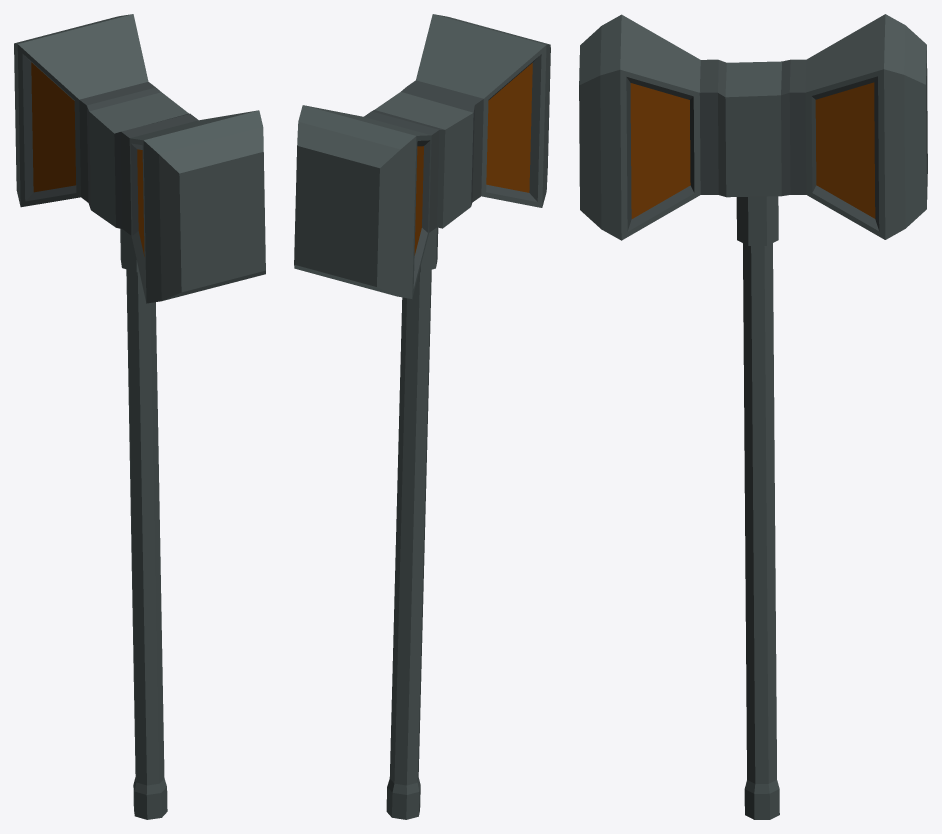
File: Hammer1.fbx
3 renders of one model, left to right at view 1: azimuth 30°, elevation 25°; view 2: azimuth 150°, elevation 25°; view 3: azimuth 270°, elevation 25°, orthographic. The views are drawn at different scales.
Parts seen in each view (by area): view 1: hammer1.001; view 2: hammer1.001; view 3: hammer1.001.
Part boxes in pixels (box(x1,y1,x2,y2)): hammer1.001: box(14, 14, 265, 819); hammer1.001: box(294, 14, 550, 819); hammer1.001: box(579, 14, 927, 819).
Bounding box in the file's own units: 0.2168 × 0.5256 × 1.27.
